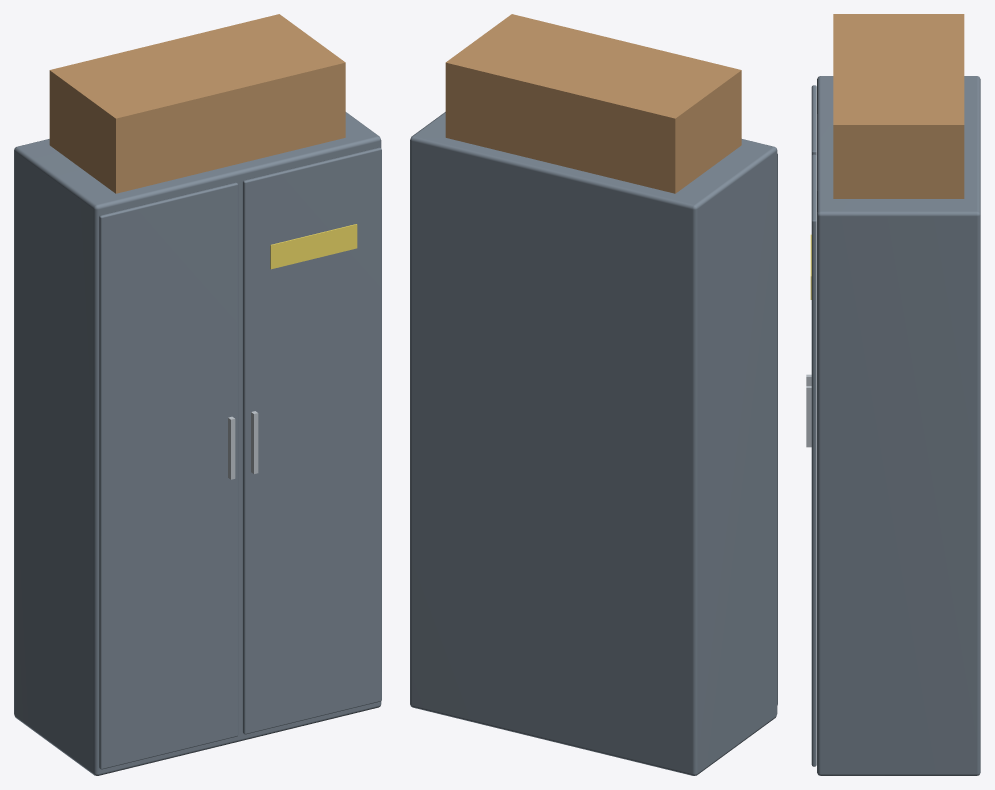
The model's file is SupplyCabinet.fbx.
3 renders of one model, left to right at view 1: azimuth 30°, elevation 25°; view 2: azimuth 150°, elevation 25°; view 3: azimuth 270°, elevation 25°, orthographic.
Parts seen in each view (by area): view 1: SupplyCabinetBody, Door, Door__swap.001; view 2: SupplyCabinetBody; view 3: SupplyCabinetBody, Door__swap.001, Door.
Part boxes in pixels (<box>): SupplyCabinetBody: <box>14,14,381,775</box>; Door: <box>99,182,238,769</box>; Door__swap.001: <box>242,147,381,734</box>; SupplyCabinetBody: <box>410,14,777,775</box>; SupplyCabinetBody: <box>806,14,980,775</box>; Door__swap.001: <box>811,154,816,766</box>; Door: <box>811,85,816,155</box>.
Bounding box in the file's own units: 1 × 2.15 × 0.5325.
